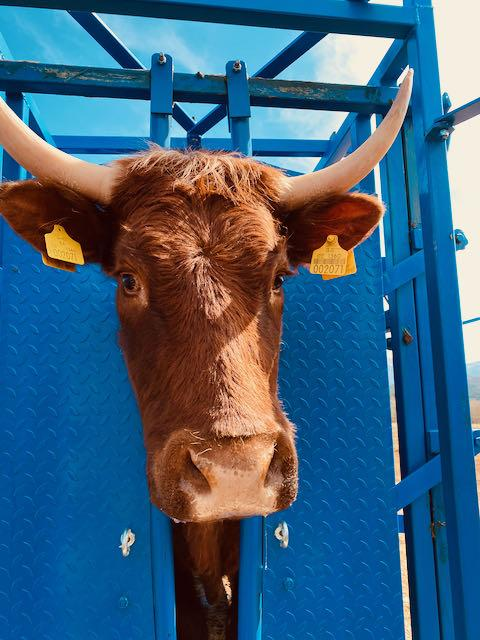muzzles: (134, 433, 308, 528)
